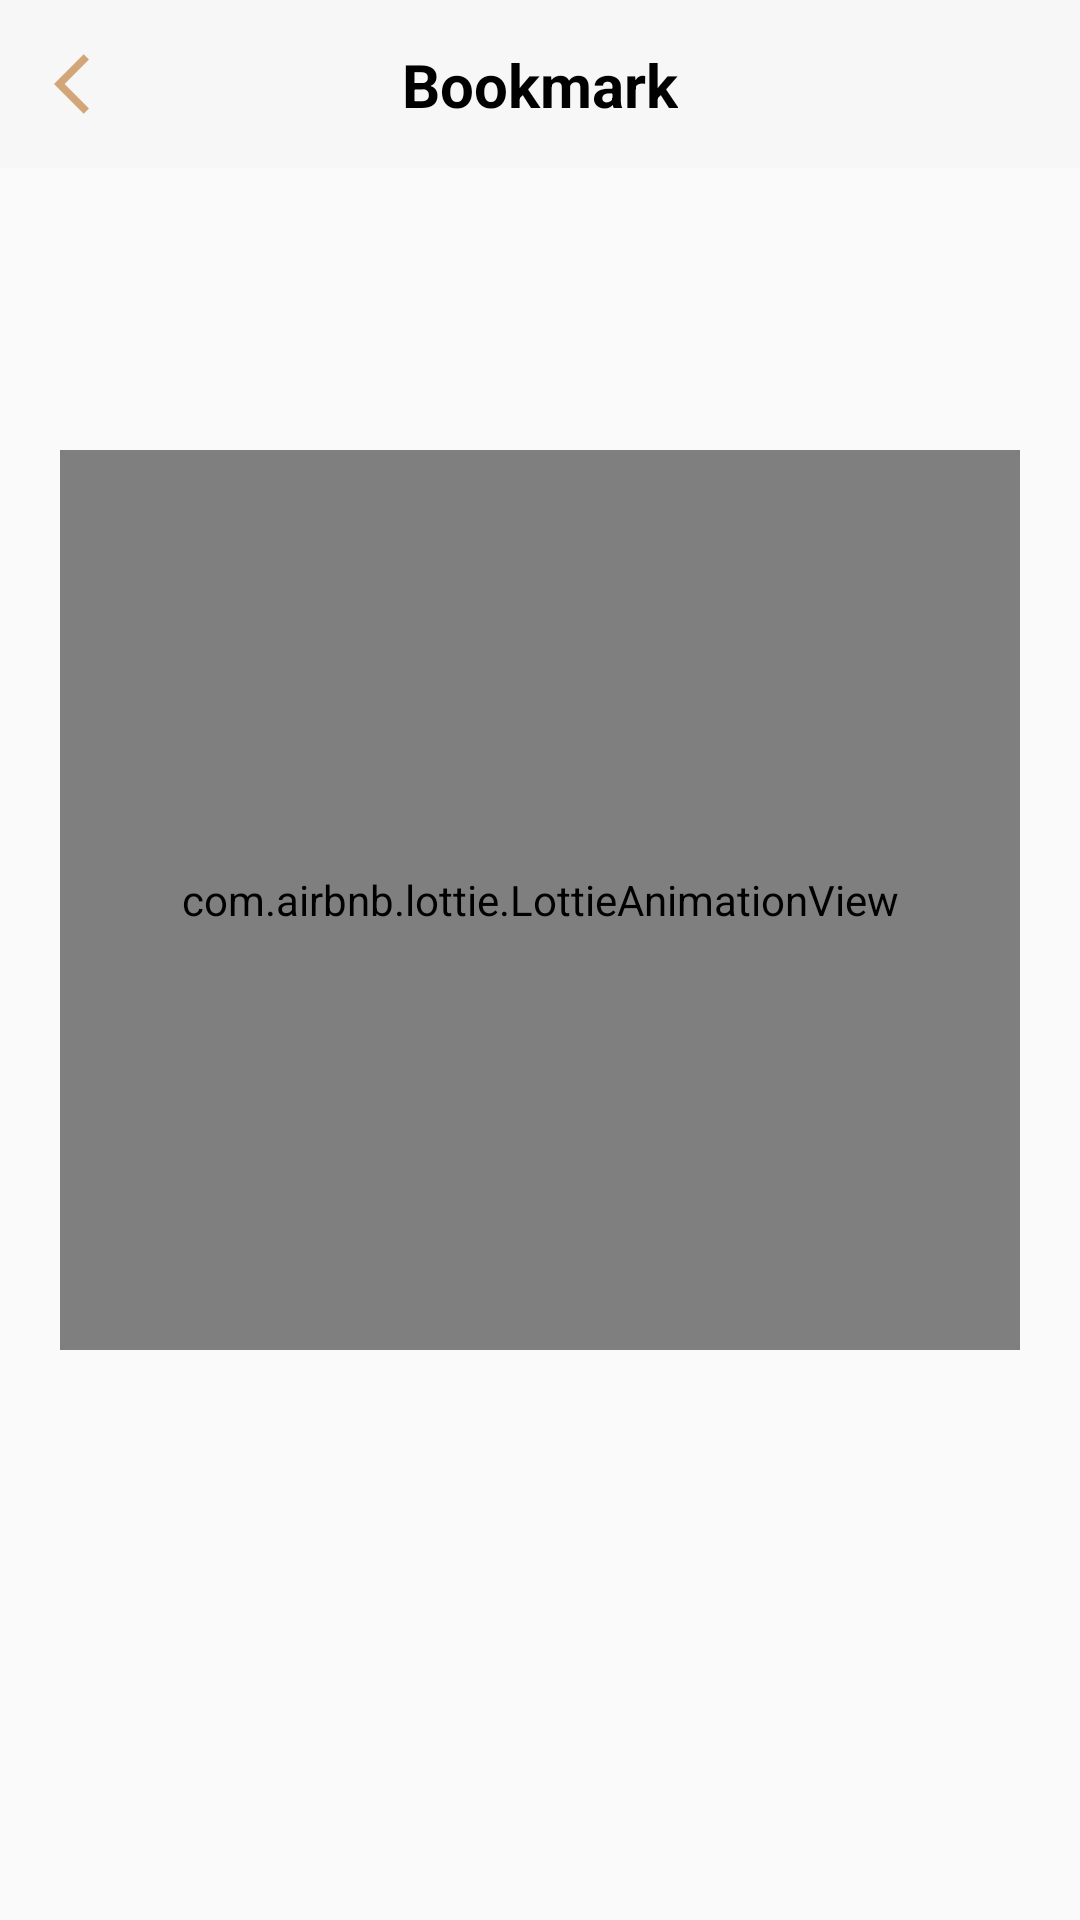

Screen size 1080x1920. Icon name, then its box in pixels as {"x1": x1, "y1": y1, "x2": x2, "y2": y2}:
arrow back: {"x1": 54, "y1": 54, "x2": 89, "y2": 114}
